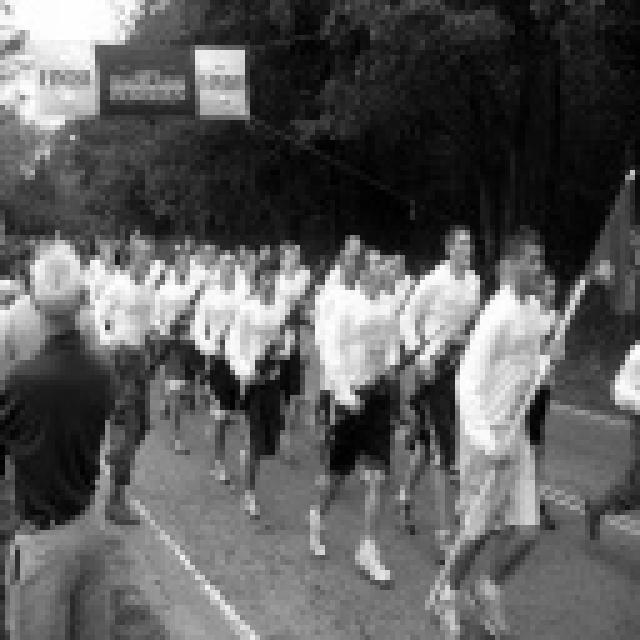Rifle: (230, 209, 352, 441), (402, 298, 495, 480), (129, 222, 217, 408), (362, 296, 450, 432)
